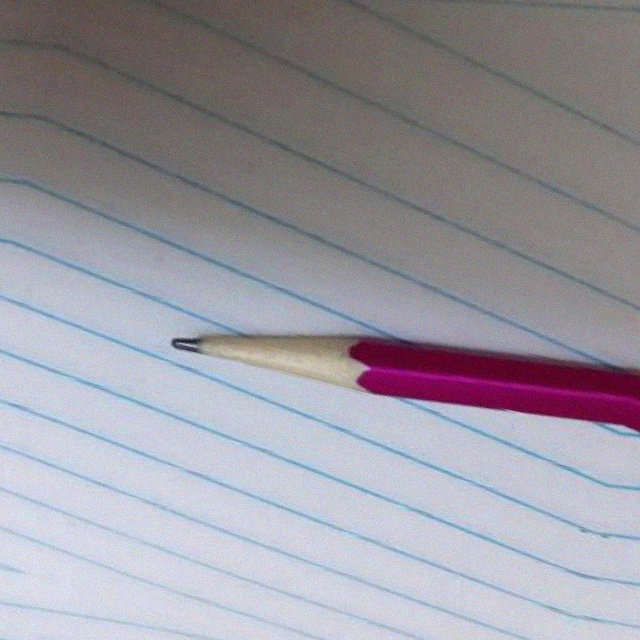pencil: (167, 301, 391, 414)
